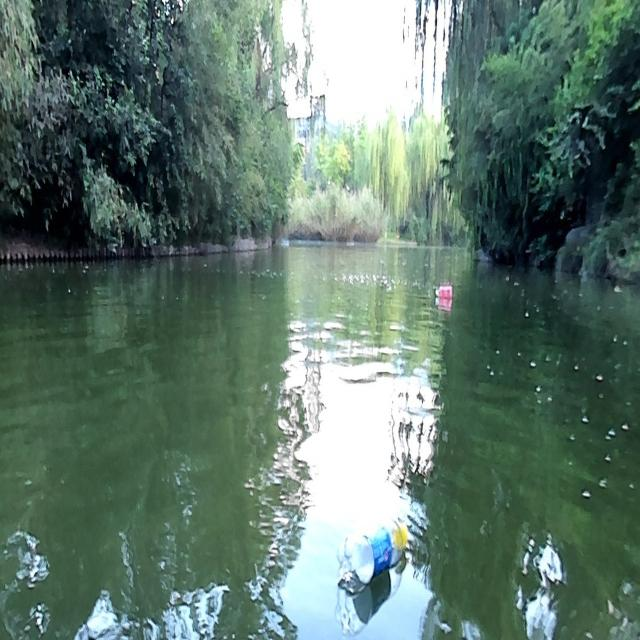bottle: (338, 521, 406, 595), (434, 284, 452, 299)
